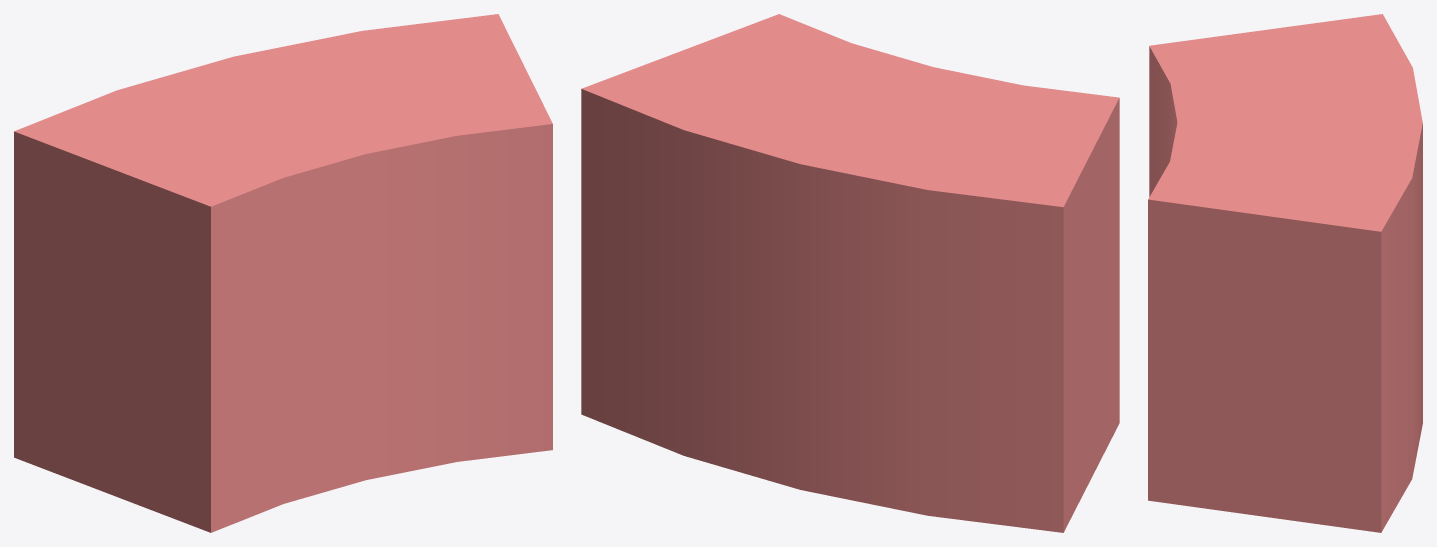
Rendered from BlockPart.model.gltf.
3 views of the same model, side by side, from view 1: azimuth 30°, elevation 25°; view 2: azimuth 150°, elevation 25°; view 3: azimuth 270°, elevation 25° (orthographic). The views are drawn at different scales.
Visible parts, largest first — view 1: polySurface31; view 2: polySurface31; view 3: polySurface31.
Part boxes in pixels (x1,y1,x2,y2): polySurface31: (14, 14, 552, 532); polySurface31: (581, 14, 1119, 532); polySurface31: (1148, 14, 1422, 532).
Size of the model in its own units: 6.22 by 4.01 by 3.31.
